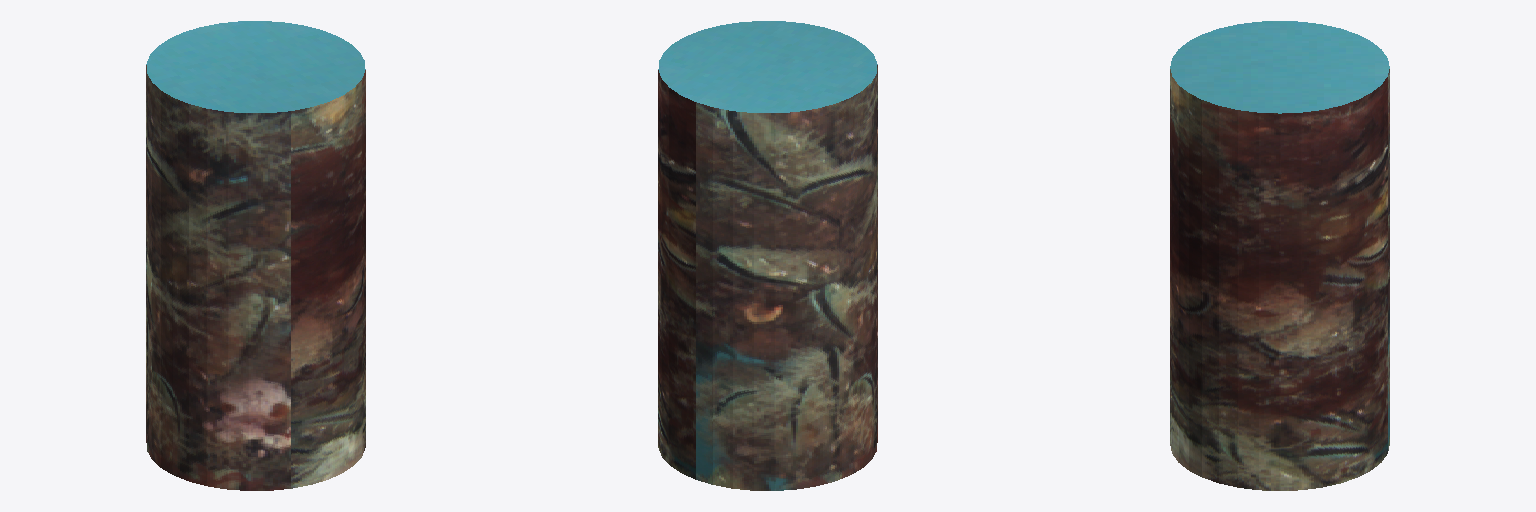
3 views of the same model, side by side, from view 1: azimuth 30°, elevation 25°; view 2: azimuth 150°, elevation 25°; view 3: azimuth 270°, elevation 25° (orthographic).
Parts seen in each view (by area): view 1: Cylinder; view 2: Cylinder; view 3: Cylinder.
Part boxes in pixels (x1,y1,x2,y2): Cylinder: (146, 21, 365, 490); Cylinder: (658, 21, 877, 490); Cylinder: (1170, 21, 1389, 490).
Bounding box in the file's own units: 3.5 × 6.64 × 3.5.
1 materials, 1 textured.